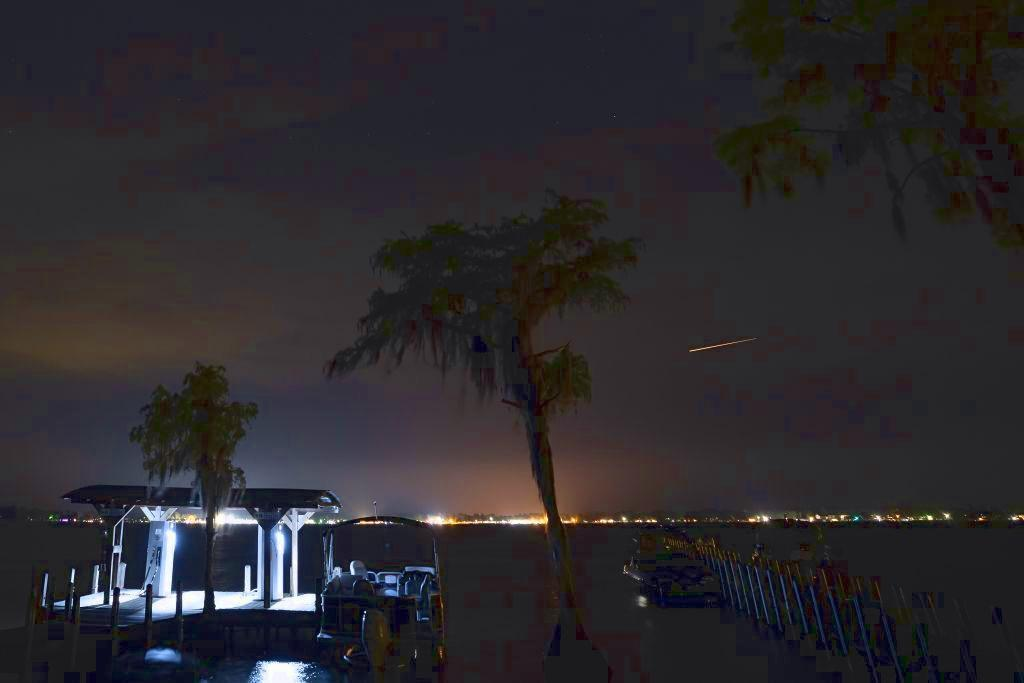meteorite: (665, 328, 789, 363)
